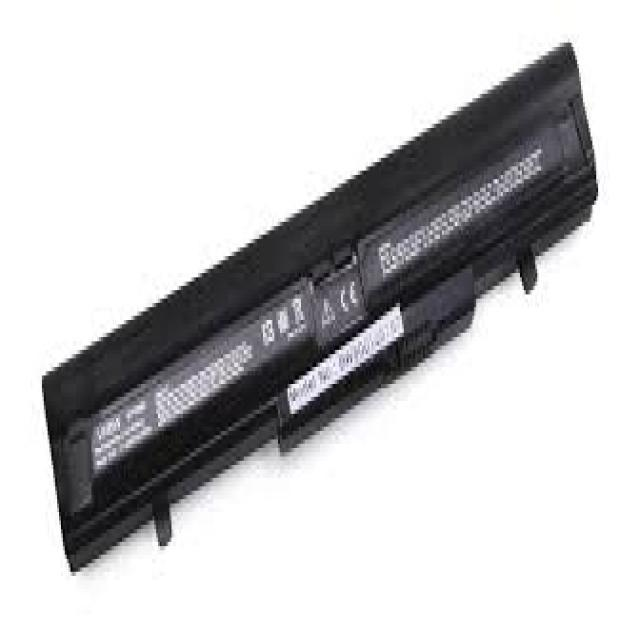battery: (41, 40, 600, 579)
